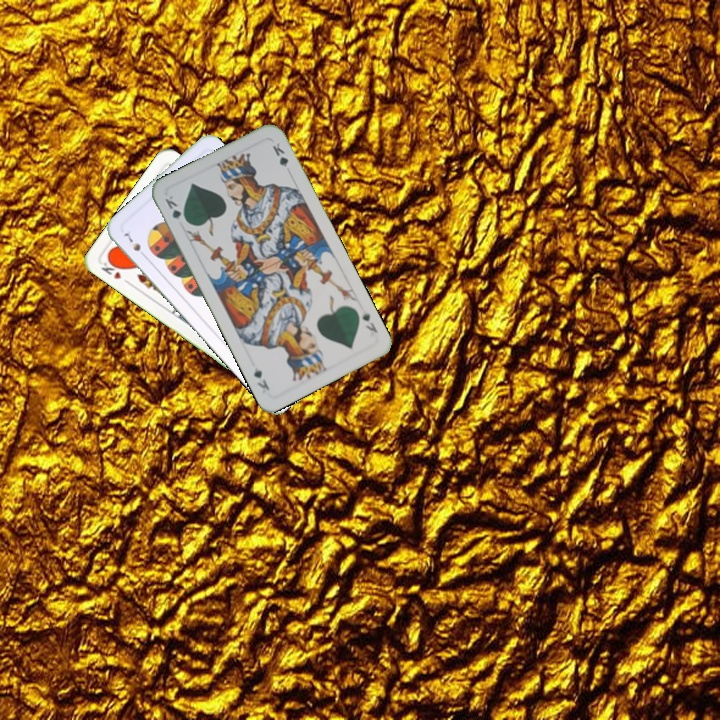GK: (161, 191, 190, 227), (358, 309, 380, 335)
HK: (97, 255, 133, 288)
S7: (119, 229, 149, 261)
